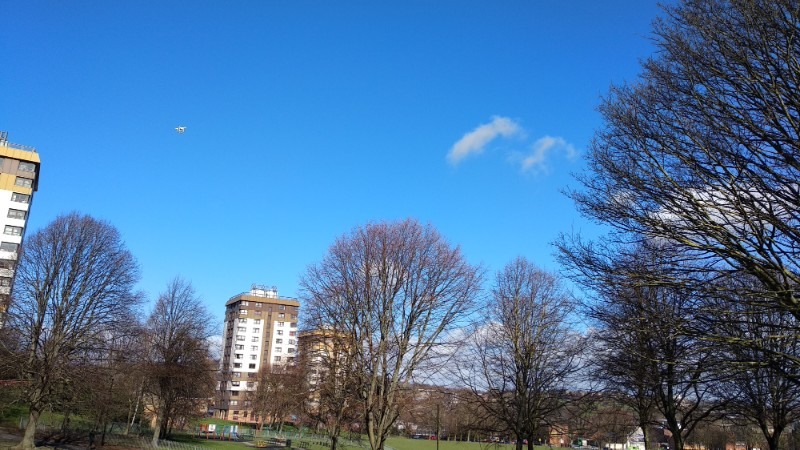drone: (173, 123, 187, 135)
